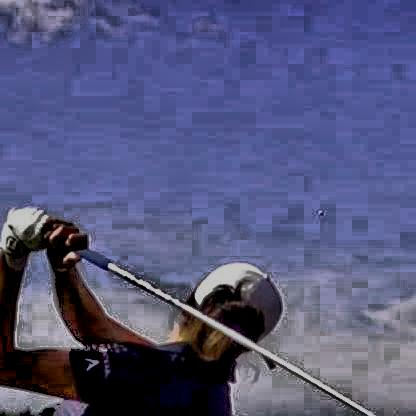golfball: (314, 207, 321, 215)
